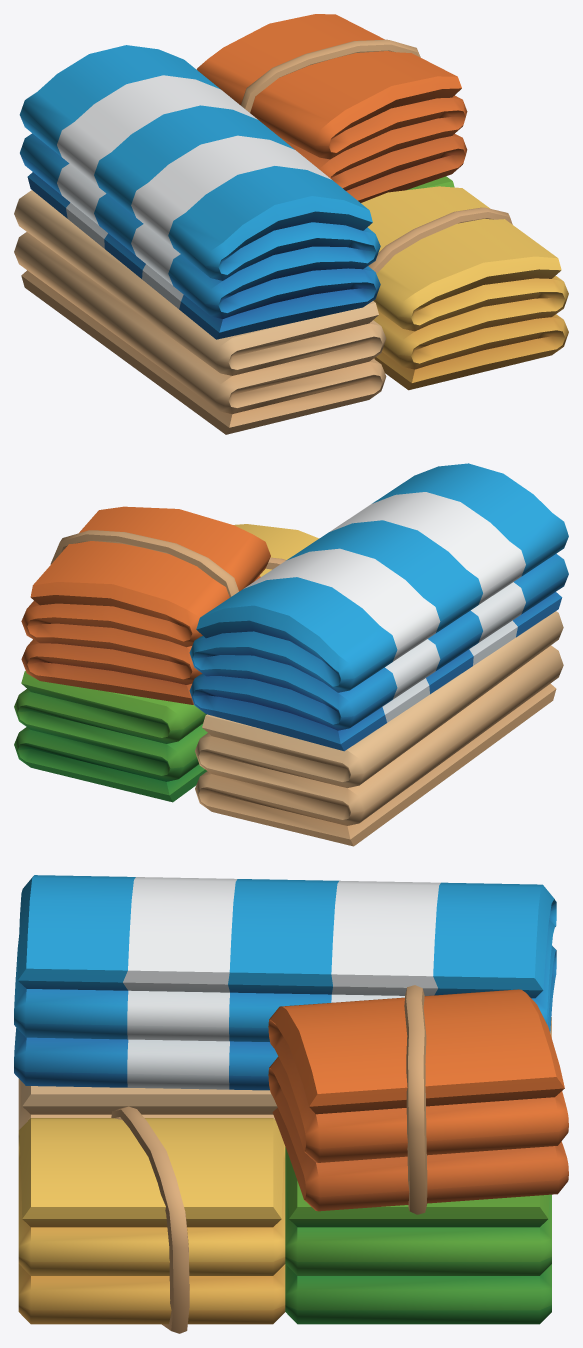
File: textiles_stack_large_colored.glb
The picture shows the model from 3 angles, top to bottom: view 1: azimuth 30°, elevation 25°; view 2: azimuth 150°, elevation 25°; view 3: azimuth 270°, elevation 25°; orthographic projection. The views are drawn at different scales.
Visible parts, largest first — view 1: Textiles_Stack_Large_Colored; view 2: Textiles_Stack_Large_Colored; view 3: Textiles_Stack_Large_Colored.
Boxes of the visible parts, box(x1,y1,x2,y2) form: Textiles_Stack_Large_Colored: box(14, 14, 568, 434); Textiles_Stack_Large_Colored: box(14, 463, 568, 846); Textiles_Stack_Large_Colored: box(14, 875, 568, 1333).
Bounding box in the file's own units: 0.9834 × 0.5733 × 0.999.
Materials: 1 (1 with a texture image).
